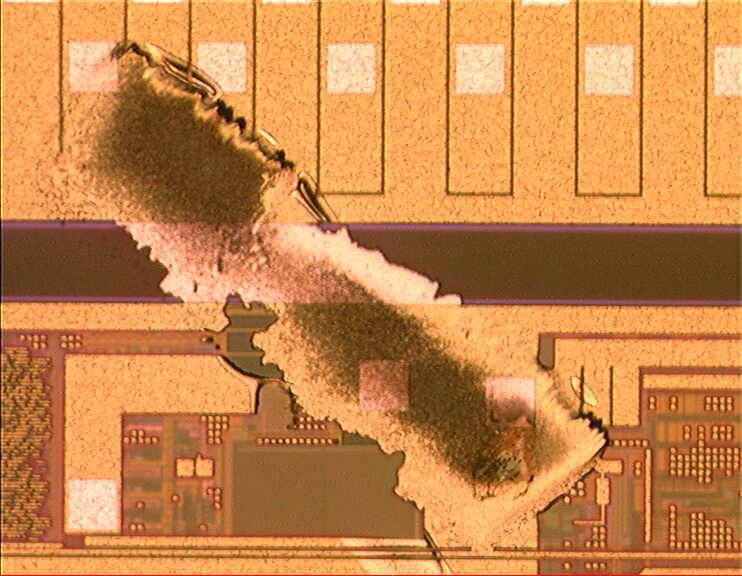BLOCK ETCH: (30, 32, 618, 576)
